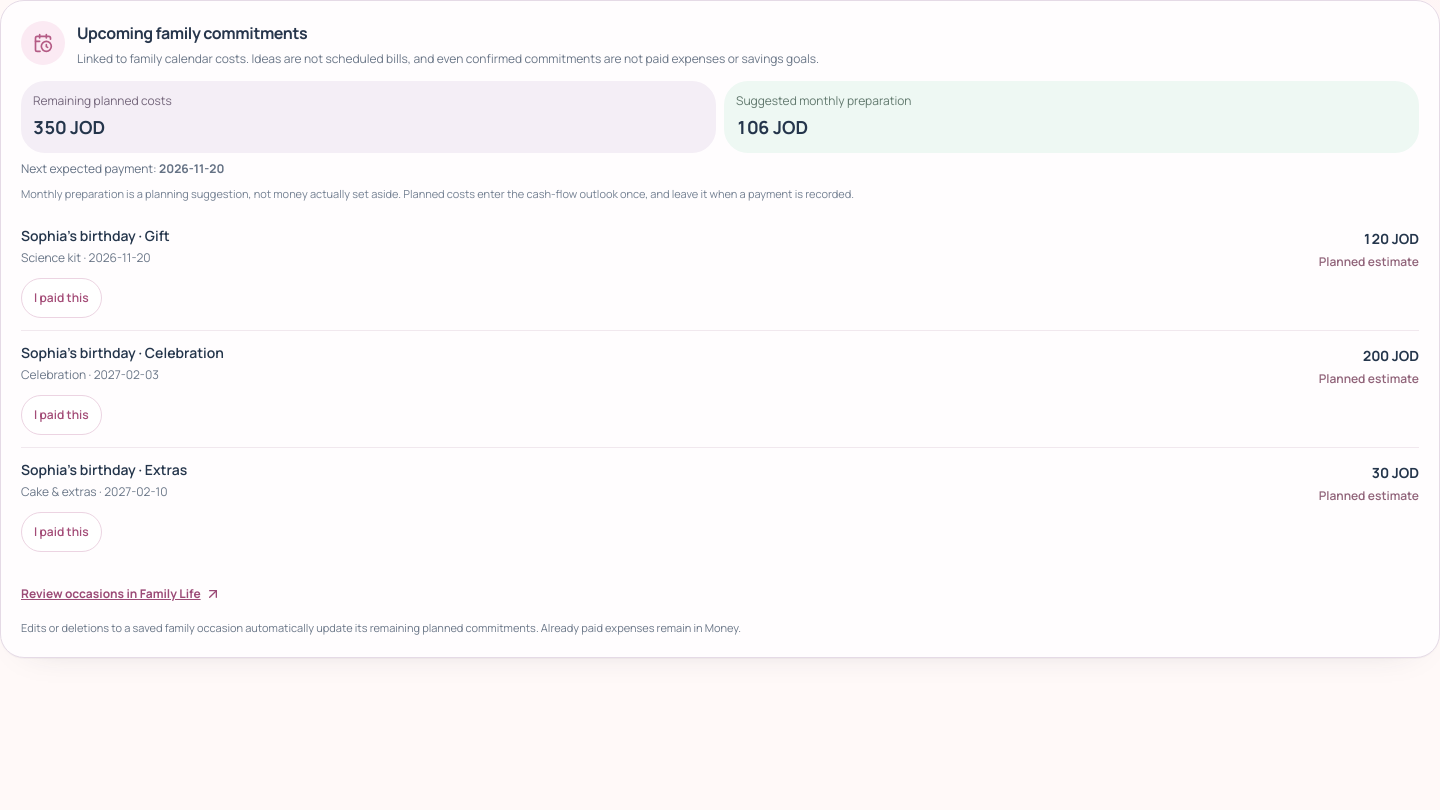
Test: Our Money auto-linked family commitments › shows and reconciles the existing saved occasion without storing planned expenses or savings
Expected: the text "350 JOD" is shown, left=33, top=114, right=105, bottom=138
Expected: the text "Sophia's birthday · Gift" is shown, left=21, top=226, right=170, bottom=245
Click the button "I paid this" below "Science kit" at [61, 298], box left=21, top=278, right=102, bottom=318
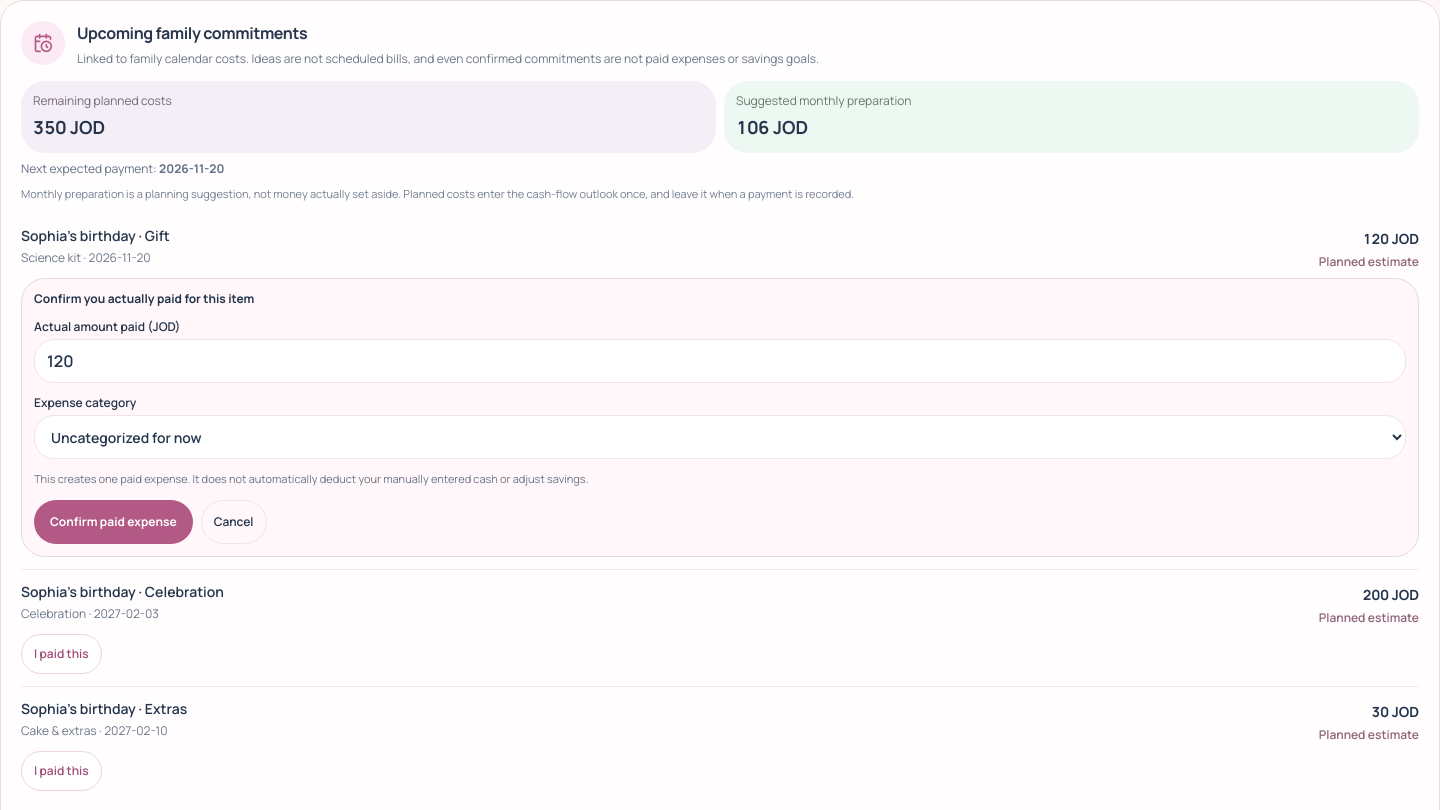
Select "Family fun" in the dropdown labelled "Expense category" at [720, 437], box left=34, top=415, right=1406, bottom=459
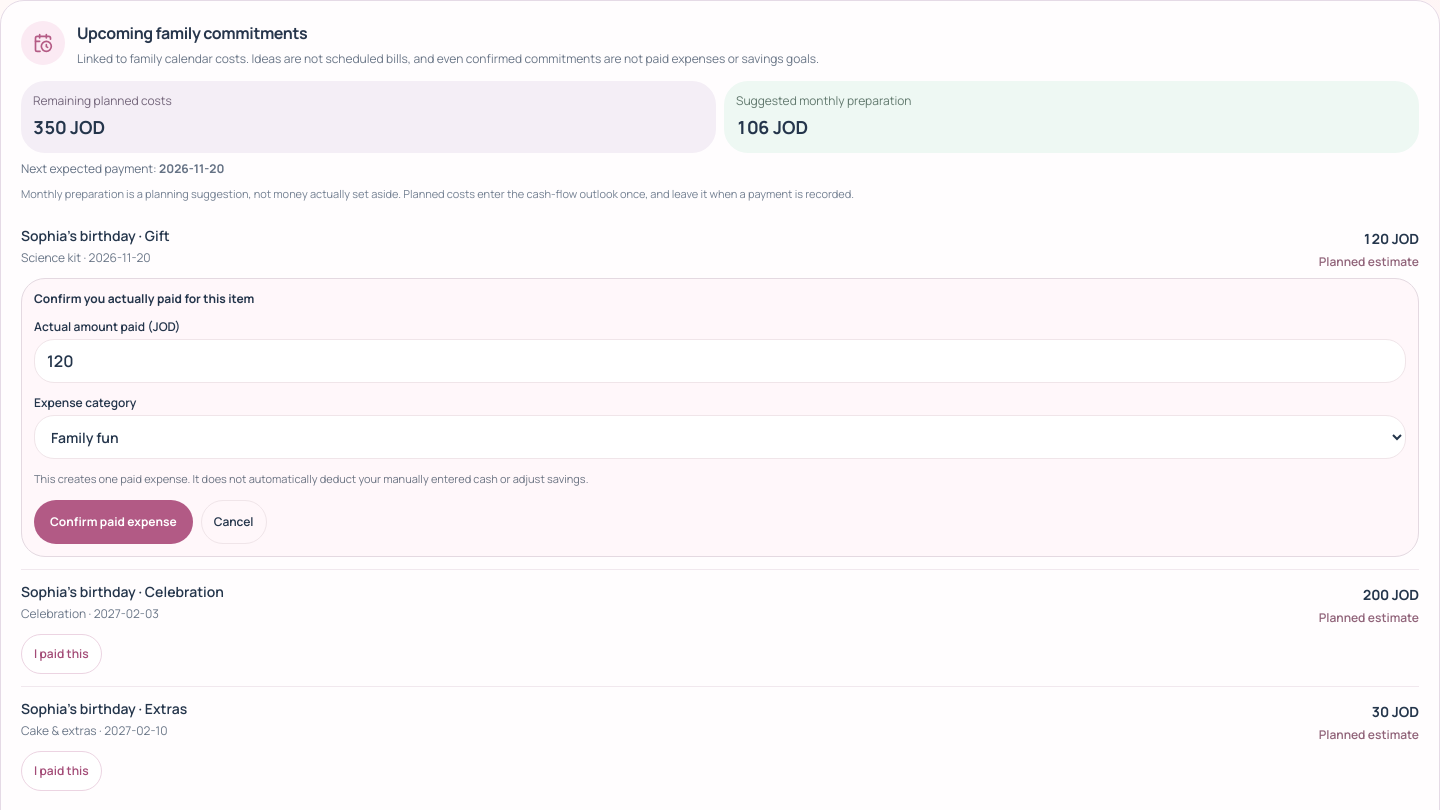
Replace the text in the number field labelled "Actual amount paid (JOD)" with "125" at [720, 361], box left=34, top=339, right=1406, bottom=383
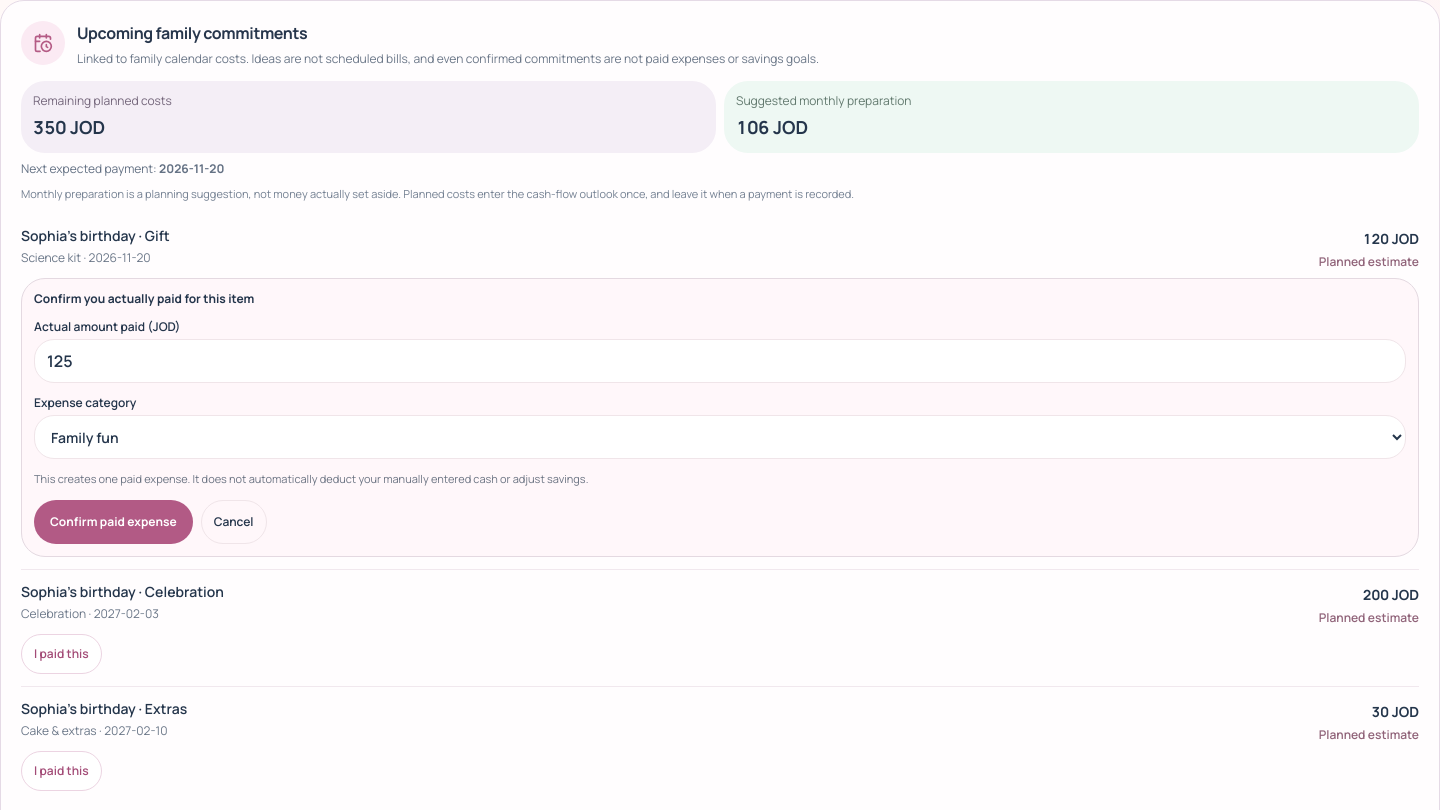
Click the button "Confirm paid expense" at [113, 522], box left=34, top=500, right=193, bottom=544
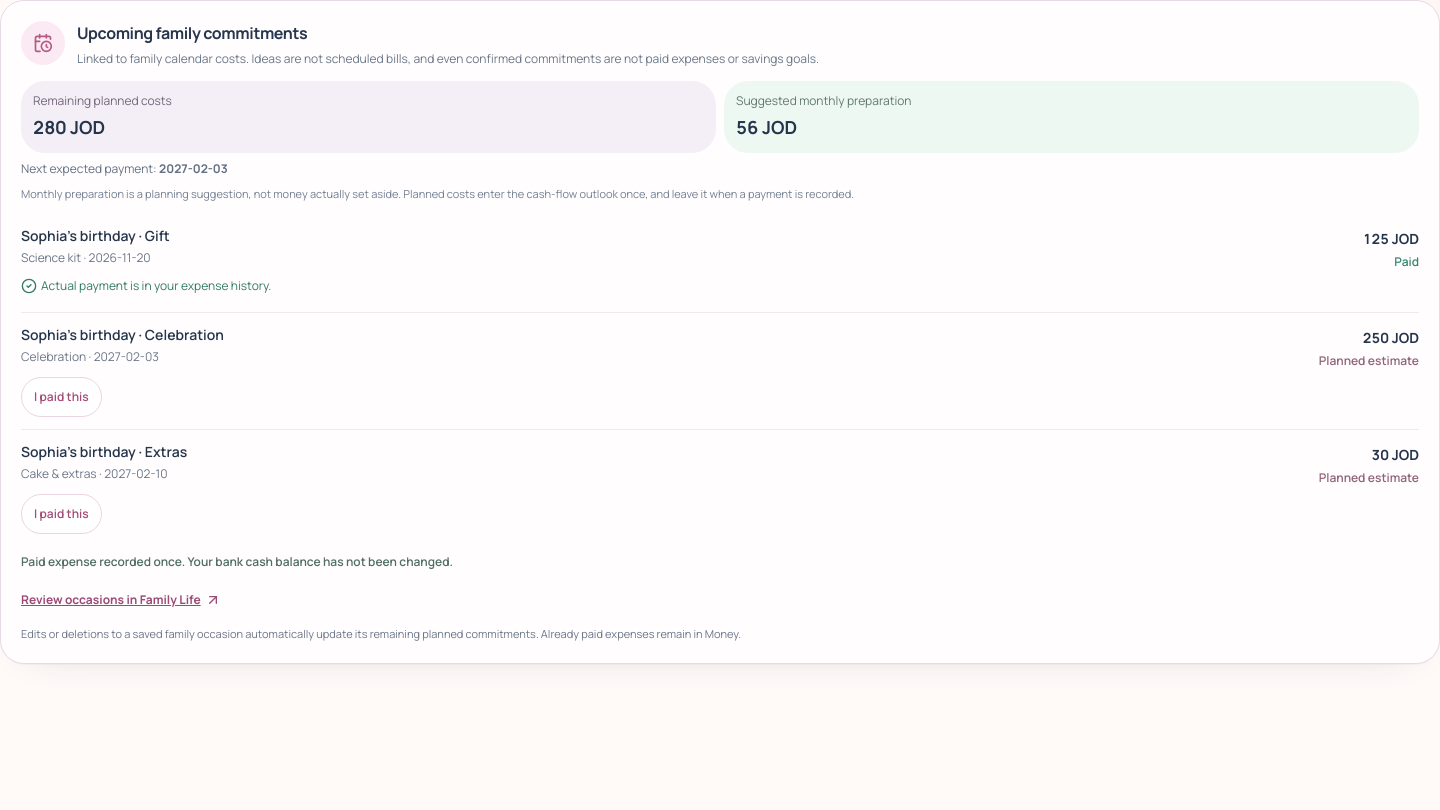
Expected: the text "Paid" is shown once, left=1394, top=253, right=1419, bottom=270
Now the number of buttons "I paid this" is 2, box left=21, top=377, right=102, bottom=417; left=21, top=494, right=102, bottom=534
Now the text "280 JOD" is shown, box left=33, top=114, right=105, bottom=138
